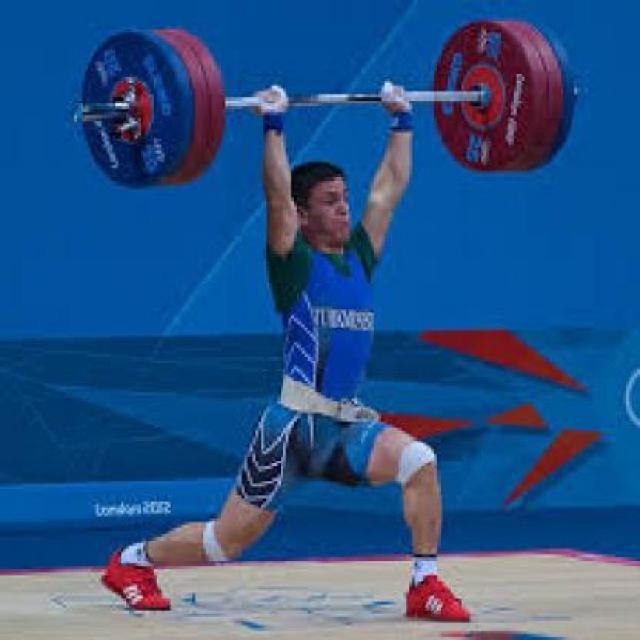Barbell: (68, 98, 90, 130)
